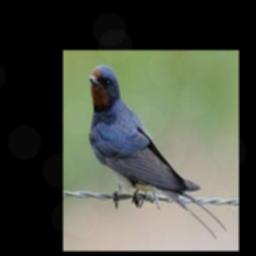Swallow: (89, 64, 227, 240)
